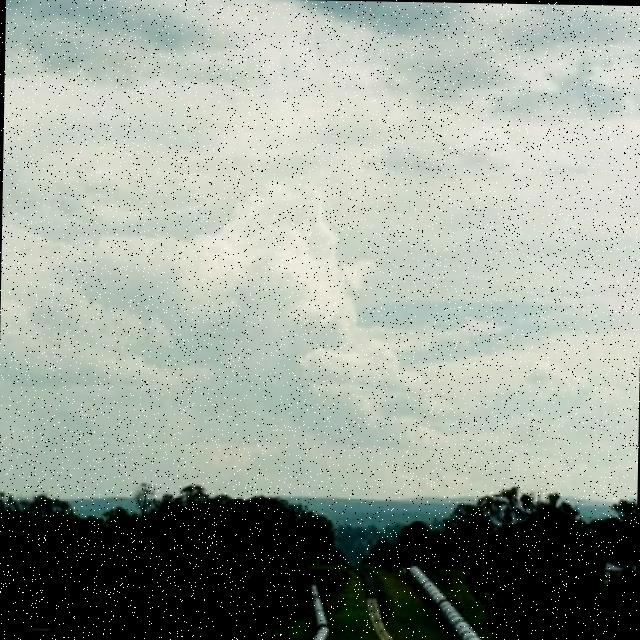Cs: (1, 43, 640, 454)
